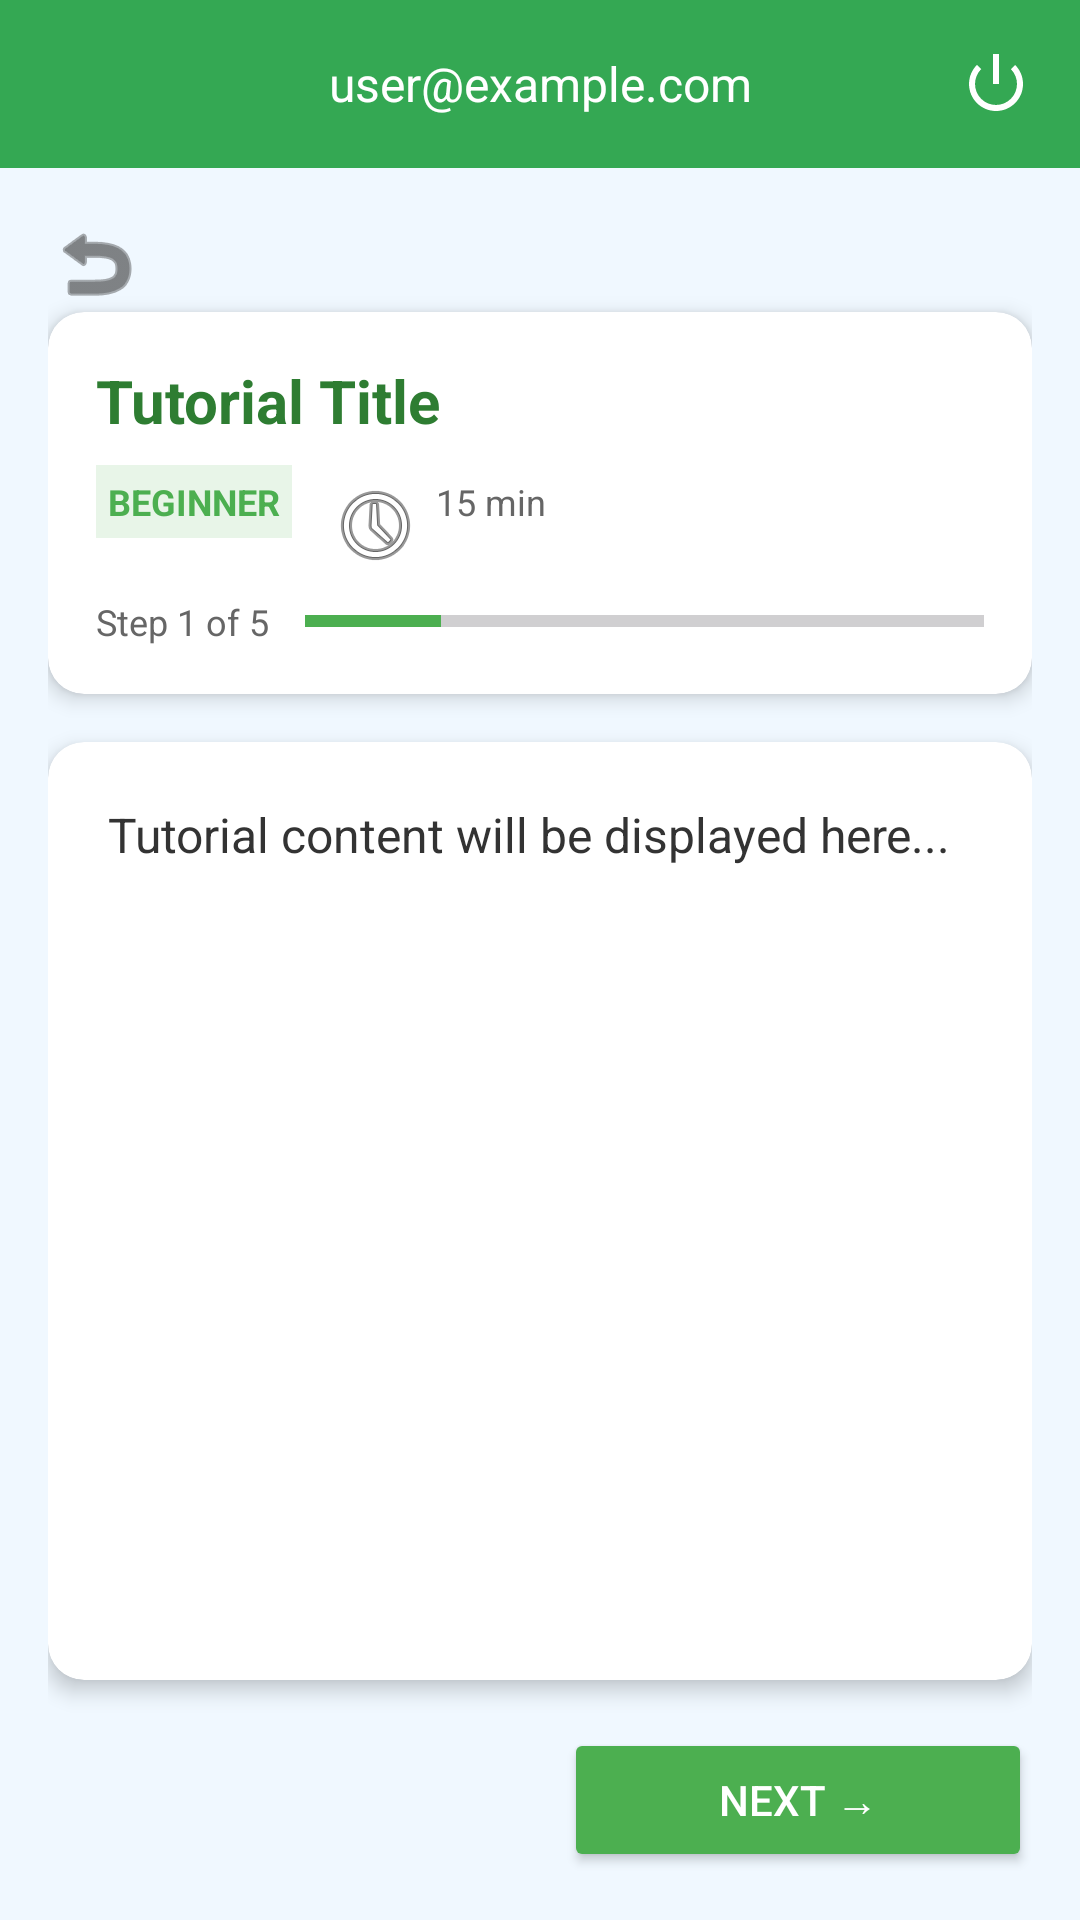

Named icons in this screenshot (1080px×1920px) and their bounding boxes, (x1, y1, x2, y2):
Back: (63, 233, 132, 296)
